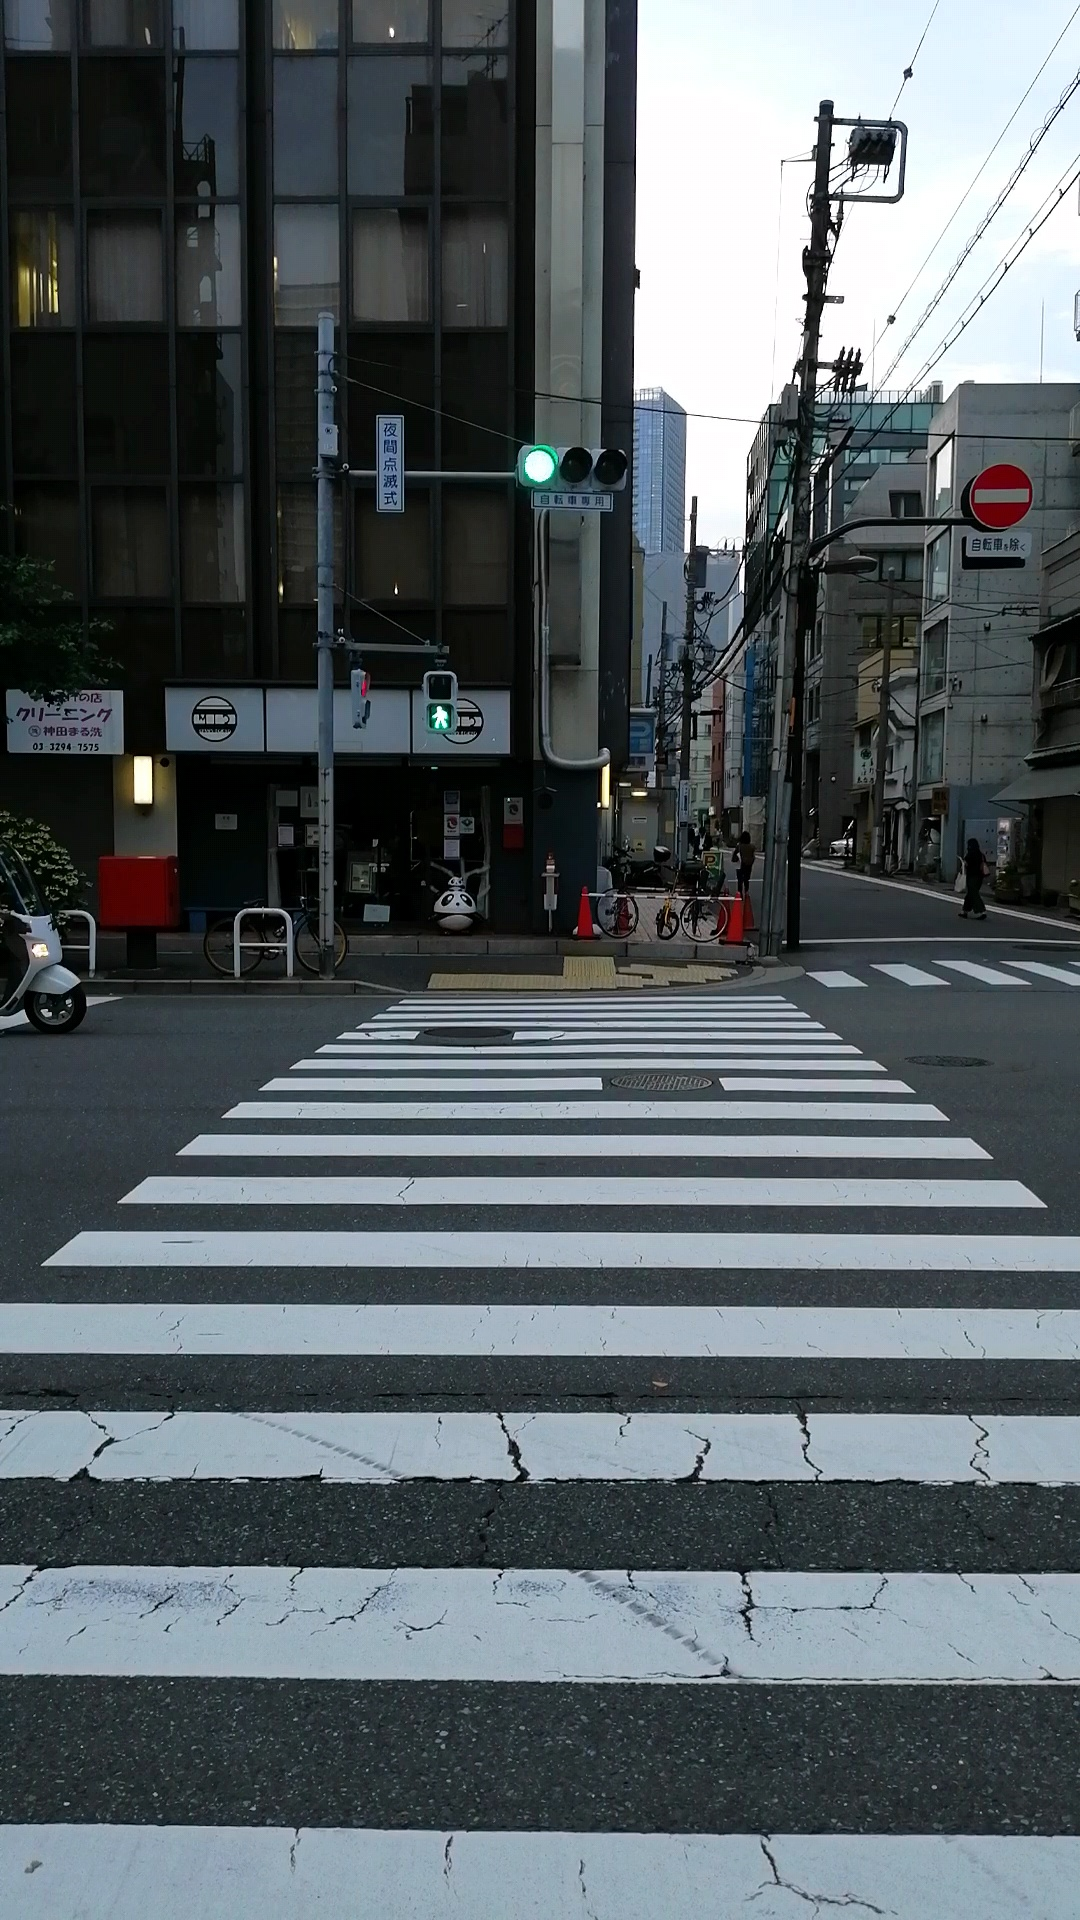green: (421, 669, 456, 735)
